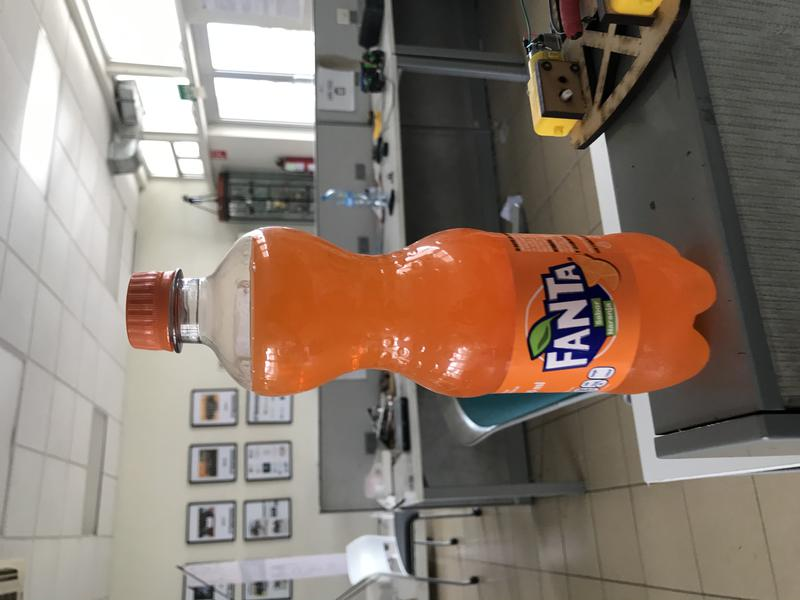fanta: (126, 225, 717, 401)
